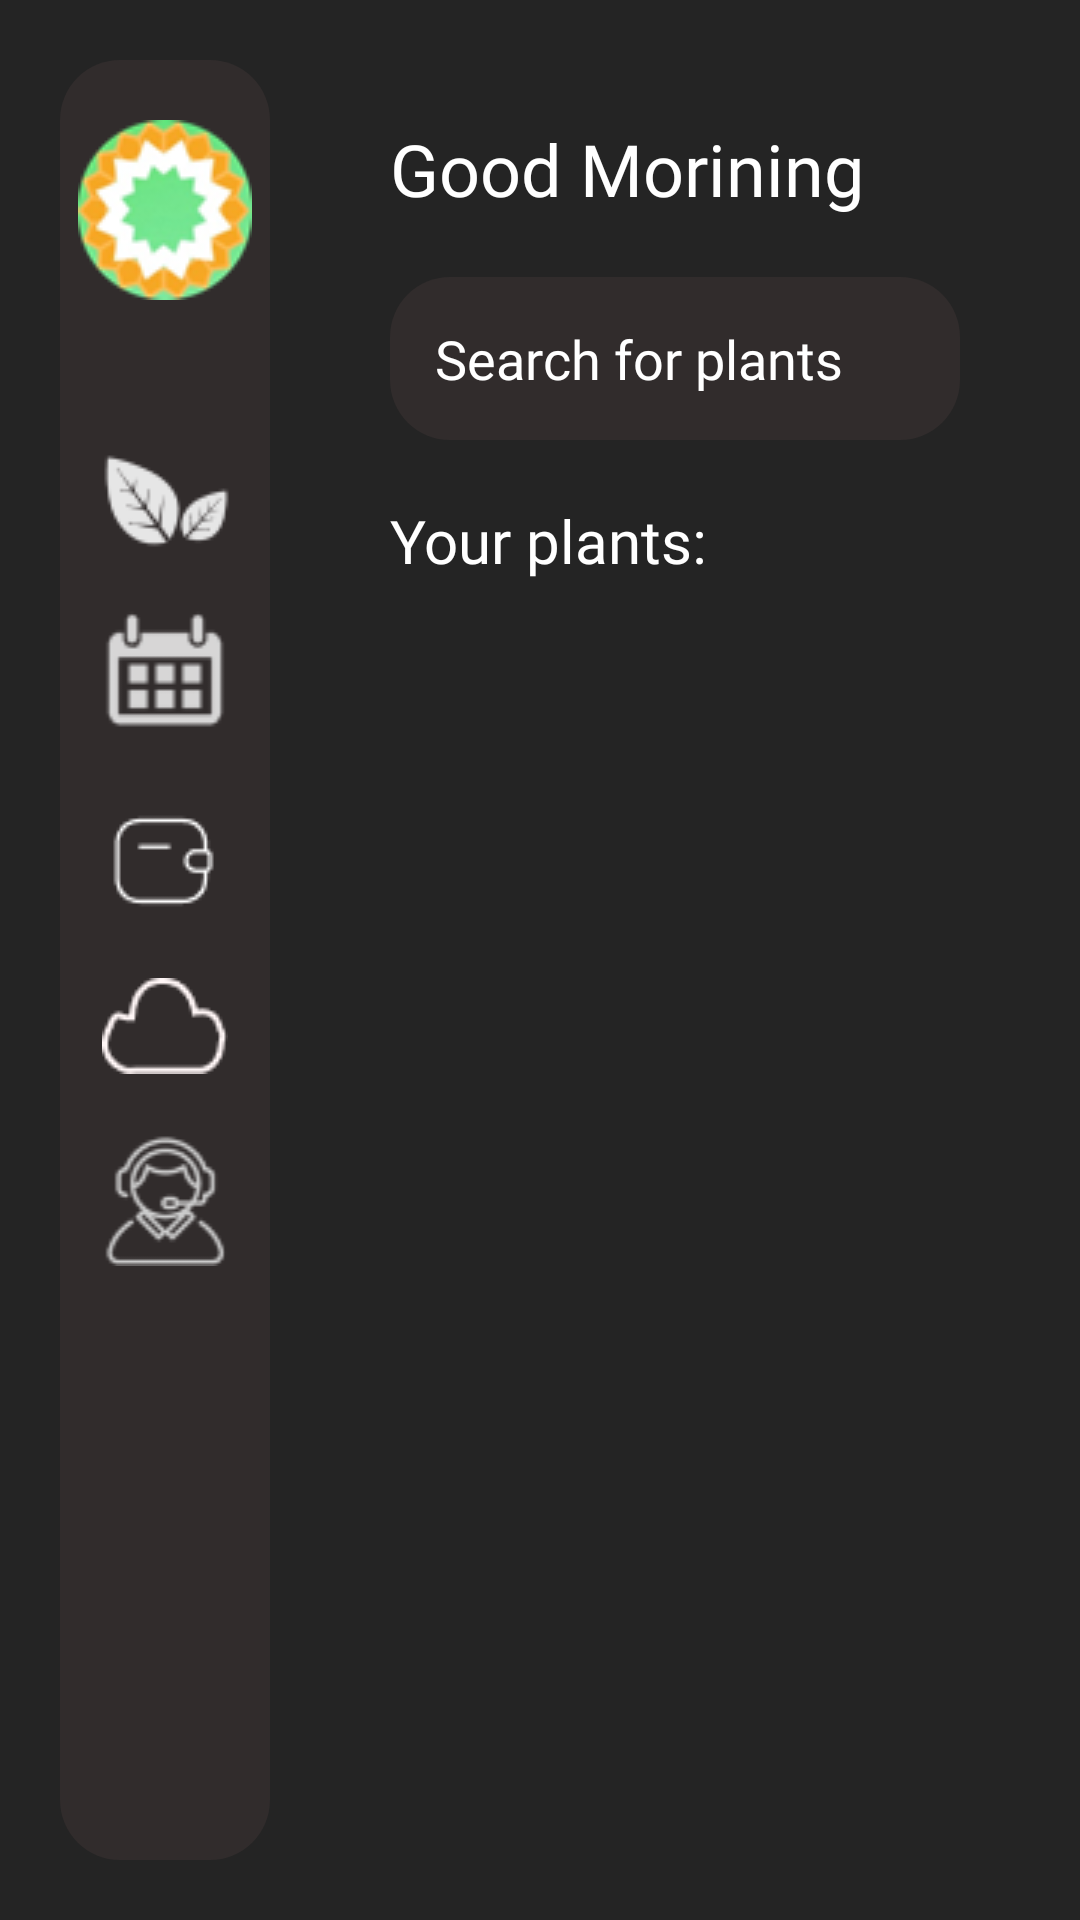

Icons on this 1080x1920 Android screen, each with the point to tap as [x,y]:
calendar: [165,670]
specialist: [165,1201]
whether: [165,1026]
